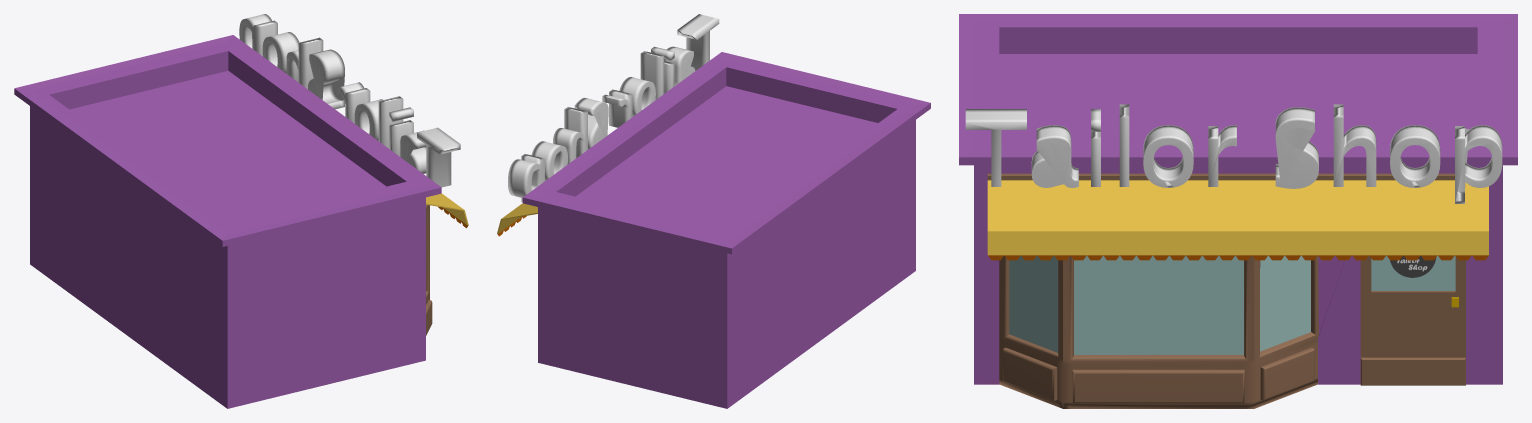
Rendered from tailorHouse.fbx.
3 views of the same model, side by side, from view 1: azimuth 30°, elevation 25°; view 2: azimuth 150°, elevation 25°; view 3: azimuth 270°, elevation 25° (orthographic). The views are drawn at different scales.
Parts seen in each view (by area): view 1: Body, billboard, polySurface9, body; view 2: Body, billboard, body; view 3: Body, body, polySurface9, billboard, polySurface6, doorbody, polySurface5, polySurface7, tip, Window, Stick, logo1.
Part boxes in pixels (x1,y1,x2,y2): Body: [14, 35, 441, 408]; billboard: [239, 14, 460, 187]; polySurface9: [426, 204, 432, 335]; body: [426, 193, 468, 225]; Body: [522, 52, 930, 408]; billboard: [508, 14, 719, 202]; body: [497, 203, 537, 233]; Body: [959, 14, 1517, 384]; body: [987, 180, 1488, 255]; polySurface9: [999, 255, 1318, 408]; billboard: [965, 104, 1502, 203]; polySurface6: [1074, 255, 1243, 354]; doorbody: [1360, 255, 1465, 385]; polySurface5: [1009, 255, 1058, 352]; polySurface7: [1260, 255, 1310, 351]; tip: [988, 255, 1488, 260]; Window: [1371, 255, 1455, 290]; Stick: [987, 173, 1454, 180]; logo1: [1390, 255, 1436, 277].
Size of the model in its own units: 30.45 by 24.26 by 42.81.
Materials: 8 (1 with a texture image).
